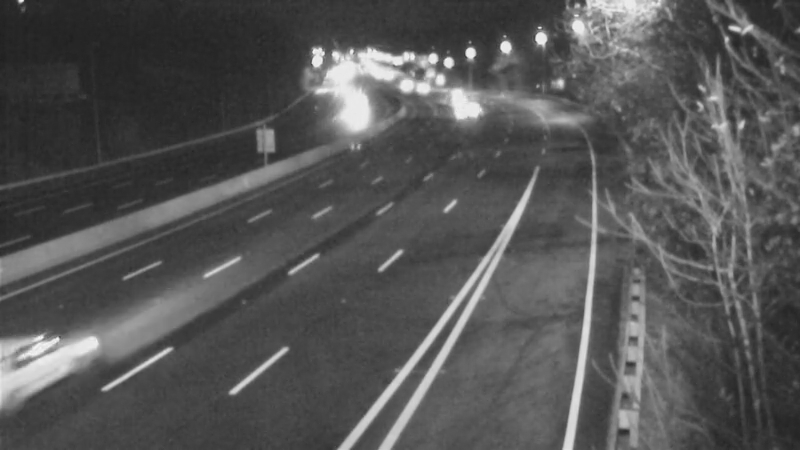vehicle: (380, 59, 430, 109), (394, 61, 444, 111), (433, 73, 483, 123), (441, 82, 491, 132), (328, 84, 378, 134)
